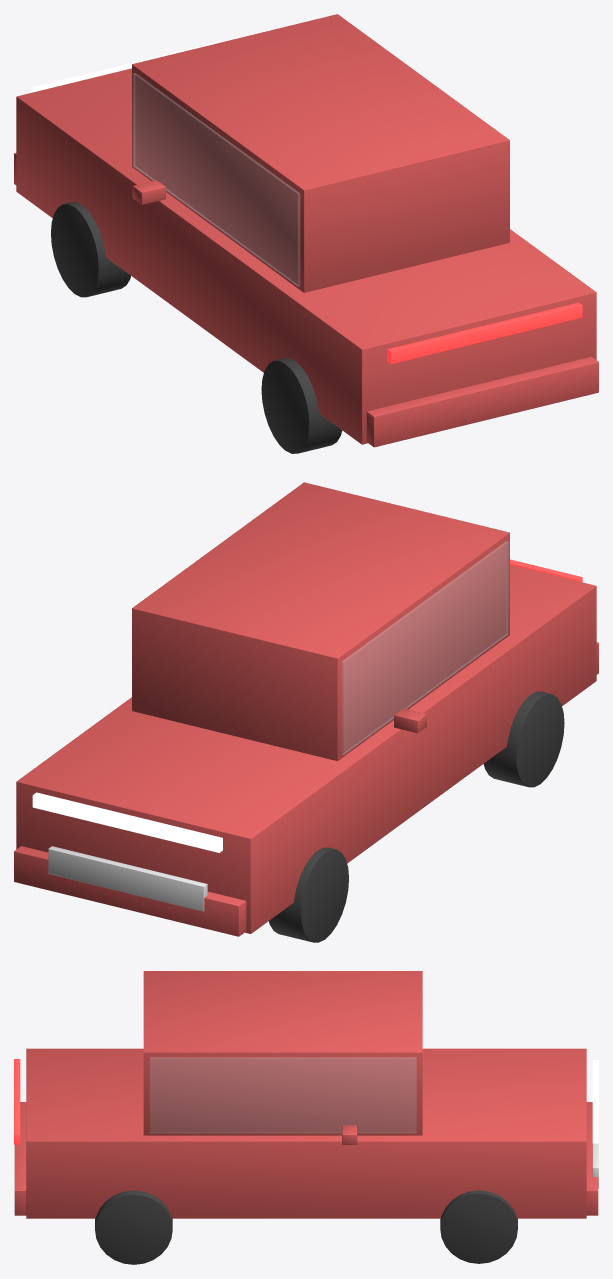
File: vehicle.glb
The picture shows the model from 3 angles, top to bottom: view 1: azimuth 30°, elevation 25°; view 2: azimuth 150°, elevation 25°; view 3: azimuth 270°, elevation 25°; orthographic projection. The views are drawn at different scales.
Visible parts, largest first — view 1: BODY_Roof, BODY_Main, GLASS_Greenhouse, BODY_Bumpers_Rear, WHEEL_RR_Tire, WHEEL_FR_Tire, LIGHT_Taillights, LIGHT_Headlights, BODY_Mirror_R; view 2: BODY_Roof, BODY_Main, GLASS_Greenhouse, BODY_Bumpers_Front, WHEEL_RR_Tire, WHEEL_FR_Tire, BODY_Grille, LIGHT_Headlights, BODY_Mirror_R; view 3: BODY_Main, BODY_Roof, GLASS_Greenhouse, WHEEL_RL_Tire, WHEEL_FL_Tire, BODY_Bumpers_Rear, BODY_Bumpers_Front, LIGHT_Taillights, LIGHT_Headlights.
Part boxes in pixels (x1,y1,x2,y2): BODY_Roof: [132, 14, 509, 292]; BODY_Main: [16, 68, 596, 444]; GLASS_Greenhouse: [133, 73, 299, 286]; BODY_Bumpers_Rear: [366, 356, 598, 447]; WHEEL_RR_Tire: [261, 358, 342, 453]; WHEEL_FR_Tire: [51, 202, 130, 297]; LIGHT_Taillights: [387, 302, 582, 364]; LIGHT_Headlights: [32, 41, 220, 92]; BODY_Mirror_R: [132, 180, 165, 204]; BODY_Roof: [132, 482, 509, 760]; BODY_Main: [16, 565, 596, 933]; GLASS_Greenhouse: [342, 541, 508, 754]; BODY_Bumpers_Front: [14, 846, 246, 936]; WHEEL_RR_Tire: [483, 691, 564, 787]; WHEEL_FR_Tire: [269, 847, 348, 942]; BODY_Grille: [48, 846, 207, 911]; LIGHT_Headlights: [32, 792, 222, 852]; BODY_Mirror_R: [394, 708, 426, 733]; BODY_Main: [26, 1048, 586, 1218]; BODY_Roof: [143, 971, 422, 1135]; GLASS_Greenhouse: [150, 1057, 416, 1133]; WHEEL_RL_Tire: [95, 1190, 172, 1264]; WHEEL_FL_Tire: [440, 1190, 517, 1263]; BODY_Bumpers_Rear: [14, 1102, 26, 1215]; BODY_Bumpers_Front: [586, 1102, 598, 1215]; LIGHT_Taillights: [14, 1059, 20, 1144]; LIGHT_Headlights: [592, 1060, 598, 1143].
Bounding box in the file's own units: 2.13 × 1.78 × 4.66.
